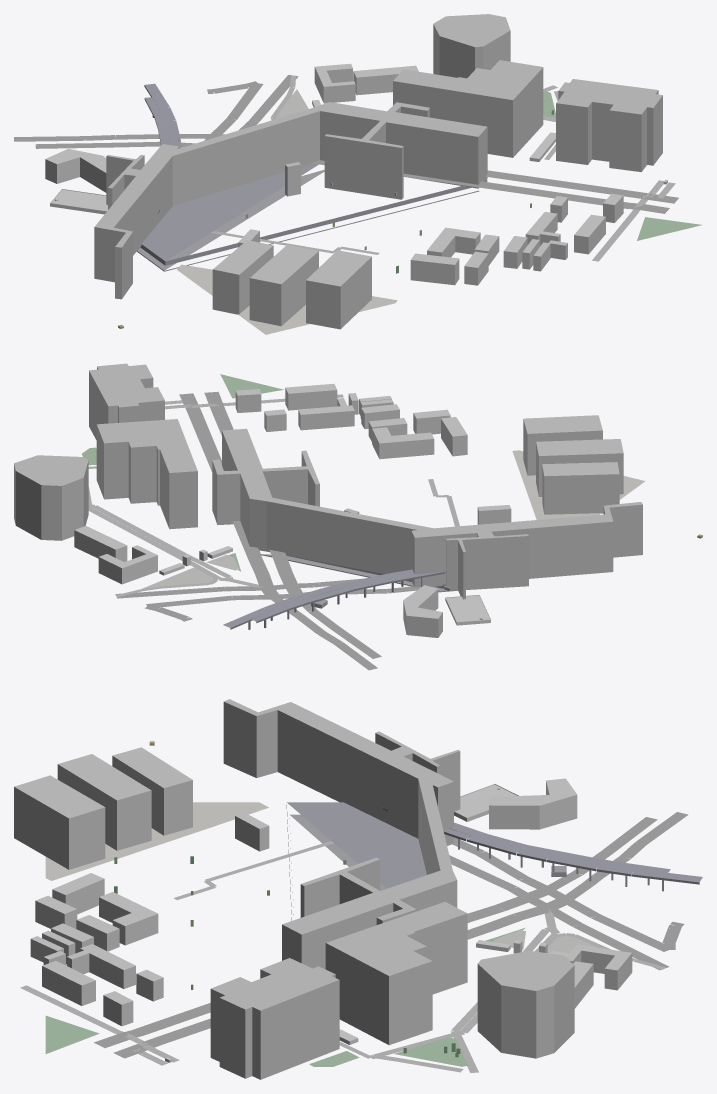
3 renders of one model, top to bottom at view 1: azimuth 30°, elevation 25°; view 2: azimuth 150°, elevation 25°; view 3: azimuth 270°, elevation 25°, orthographic. The views are drawn at different scales.
Size of the model in its own units: 636 by 75.68 by 541.
